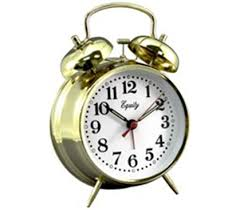alarm_clock: (48, 1, 188, 207), (65, 1, 188, 207)
